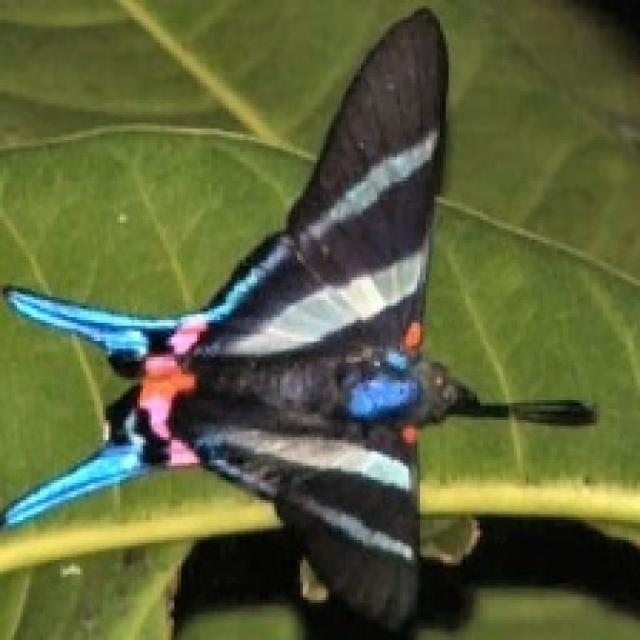butterfly: (0, 3, 597, 634)
